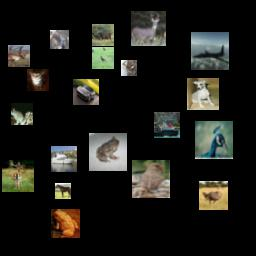airplane: (191, 32, 229, 70)
automobile: (73, 79, 99, 105)
bird: (132, 160, 170, 198), (195, 121, 233, 159), (199, 181, 228, 210), (92, 47, 114, 69), (50, 30, 69, 49)
cat: (27, 69, 49, 91)
deer: (131, 11, 166, 46), (2, 160, 34, 192), (8, 45, 30, 67), (92, 24, 114, 46), (121, 60, 137, 76)
dog: (187, 78, 219, 110)
frog: (89, 133, 127, 171), (51, 209, 80, 238), (11, 103, 33, 125)
ship: (154, 112, 180, 138), (51, 146, 77, 172)
